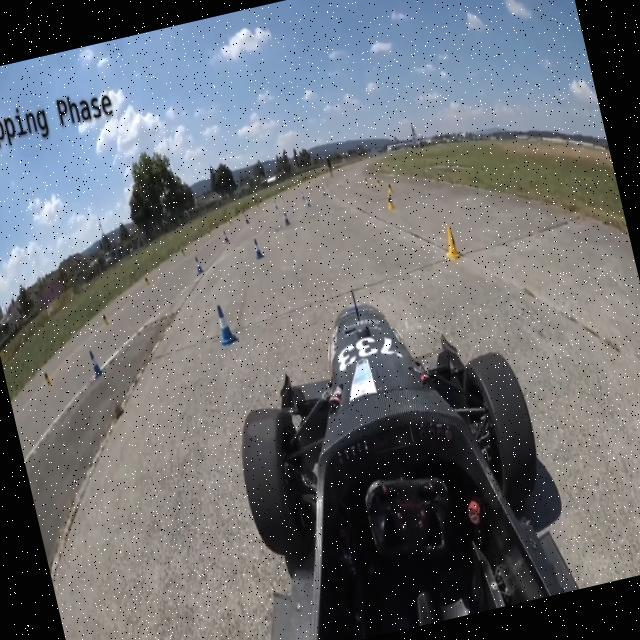blue_cone: (212, 298, 238, 348), (87, 346, 104, 378), (250, 237, 264, 260), (192, 255, 204, 274), (282, 210, 290, 226), (221, 228, 229, 242)
yellow_cone: (439, 224, 462, 261), (42, 368, 52, 388), (385, 191, 395, 210), (101, 310, 109, 326), (386, 180, 392, 193), (375, 176, 380, 186)
